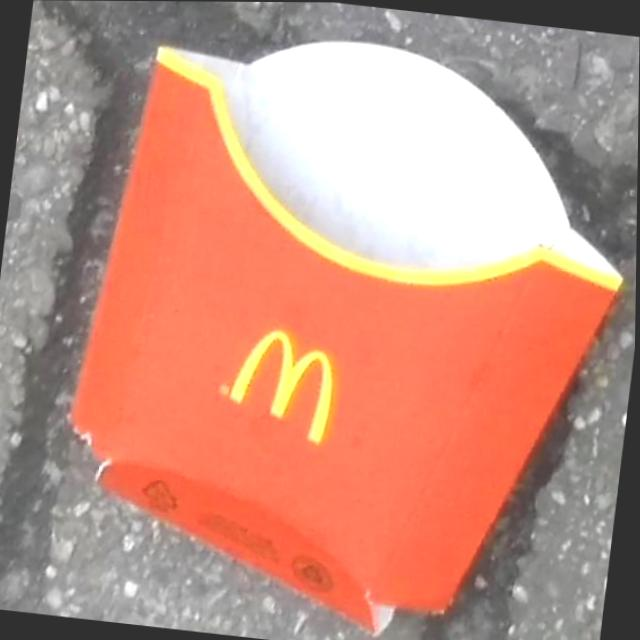Paper: (45, 7, 640, 640)
